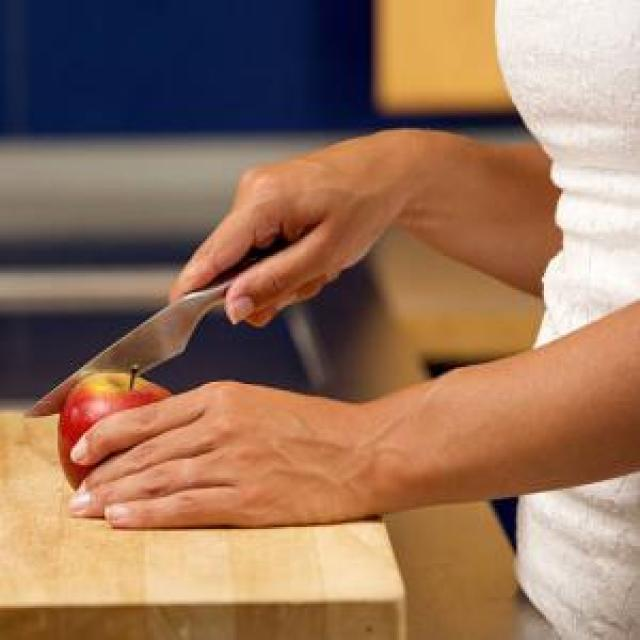knife: (23, 230, 326, 420)
